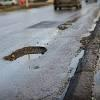Pothole: (0, 41, 50, 63)
